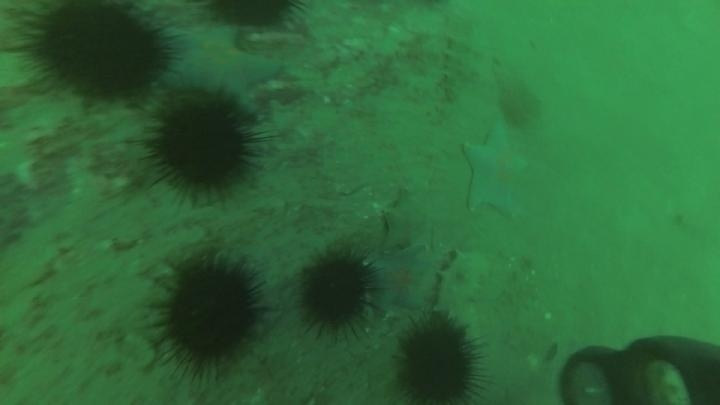echinus: (18, 3, 177, 107), (150, 253, 269, 377), (144, 96, 263, 201), (391, 314, 487, 404), (295, 247, 380, 338), (204, 1, 304, 33)
holothurian: (434, 246, 492, 326), (435, 30, 482, 106)
starfish: (161, 22, 286, 110), (459, 119, 533, 220), (367, 242, 443, 317), (379, 188, 443, 256)
